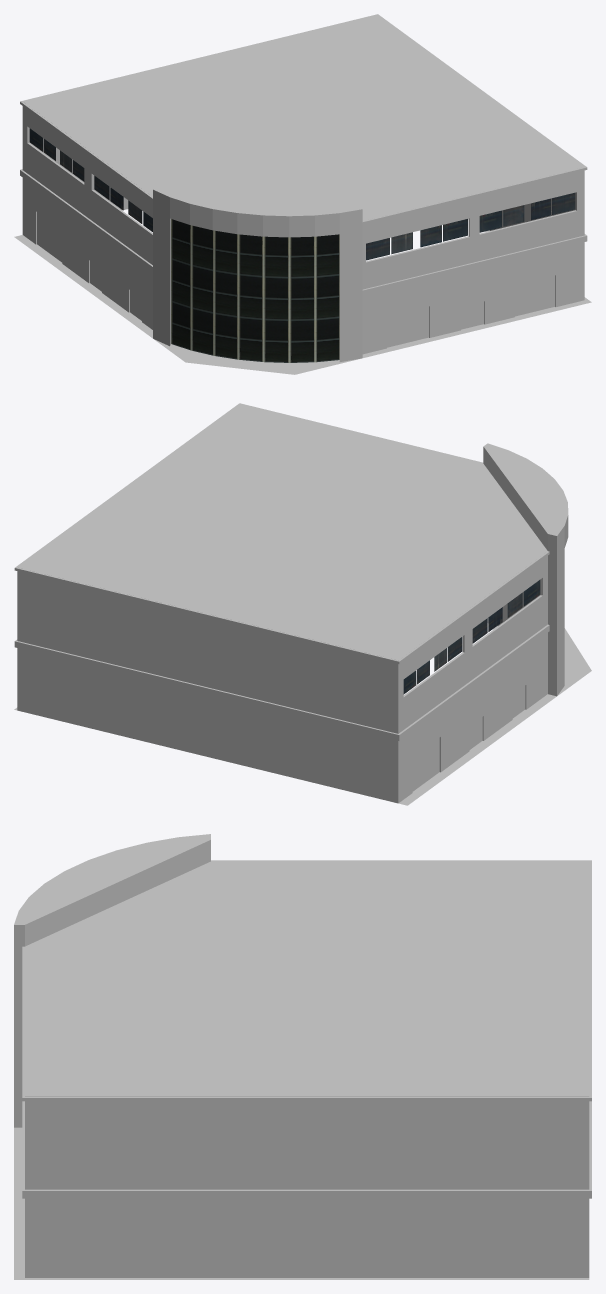
The picture shows the model from 3 angles, top to bottom: view 1: azimuth 30°, elevation 25°; view 2: azimuth 150°, elevation 25°; view 3: azimuth 270°, elevation 25°; orthographic projection. The views are drawn at different scales.
Visible parts, largest first — view 1: EB-009; view 2: EB-009; view 3: EB-009.
Boxes of the visible parts, x1,y1,x2,y2 form: EB-009: [14, 14, 591, 374]; EB-009: [14, 403, 591, 805]; EB-009: [14, 834, 591, 1279].
Size of what is drawn, in the model's own units: 36 by 14 by 36.16.
